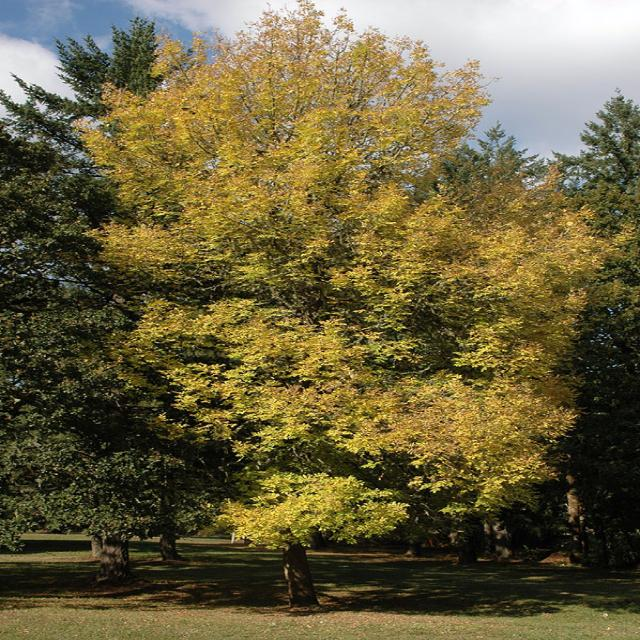Fraxinus latifolia: (64, 17, 608, 621)
